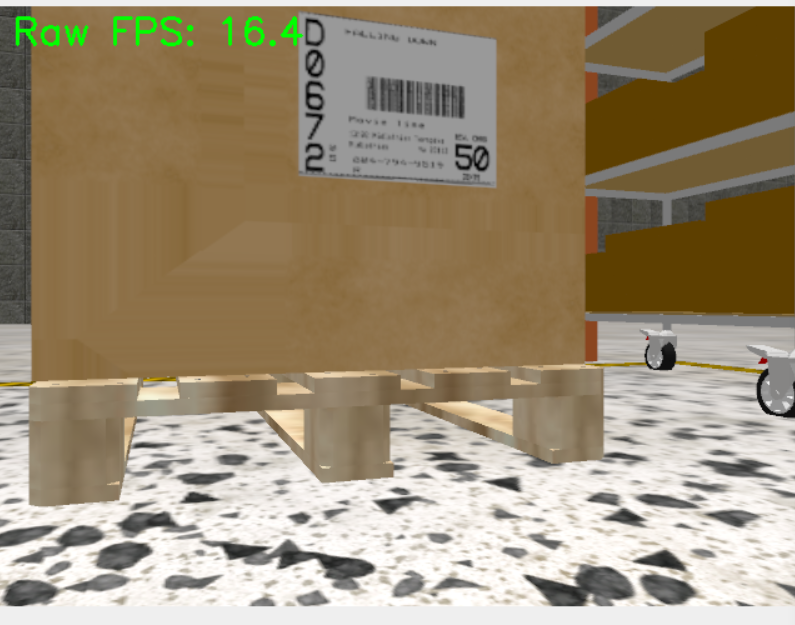barcode: (299, 12, 499, 190)
